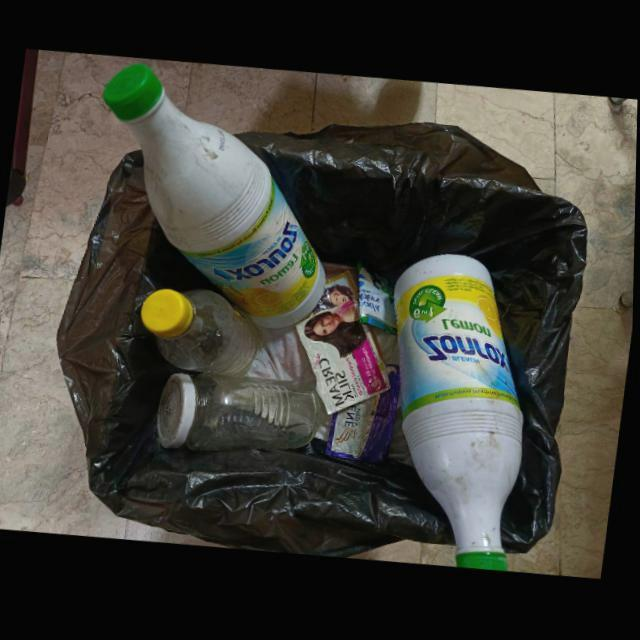glass_bottle: (157, 373, 323, 452)
plastic_bottle: (101, 63, 325, 330), (395, 256, 525, 573), (141, 289, 261, 376)
plastic_sachet: (297, 302, 392, 416), (326, 365, 402, 466), (358, 264, 398, 336), (314, 271, 360, 314)
